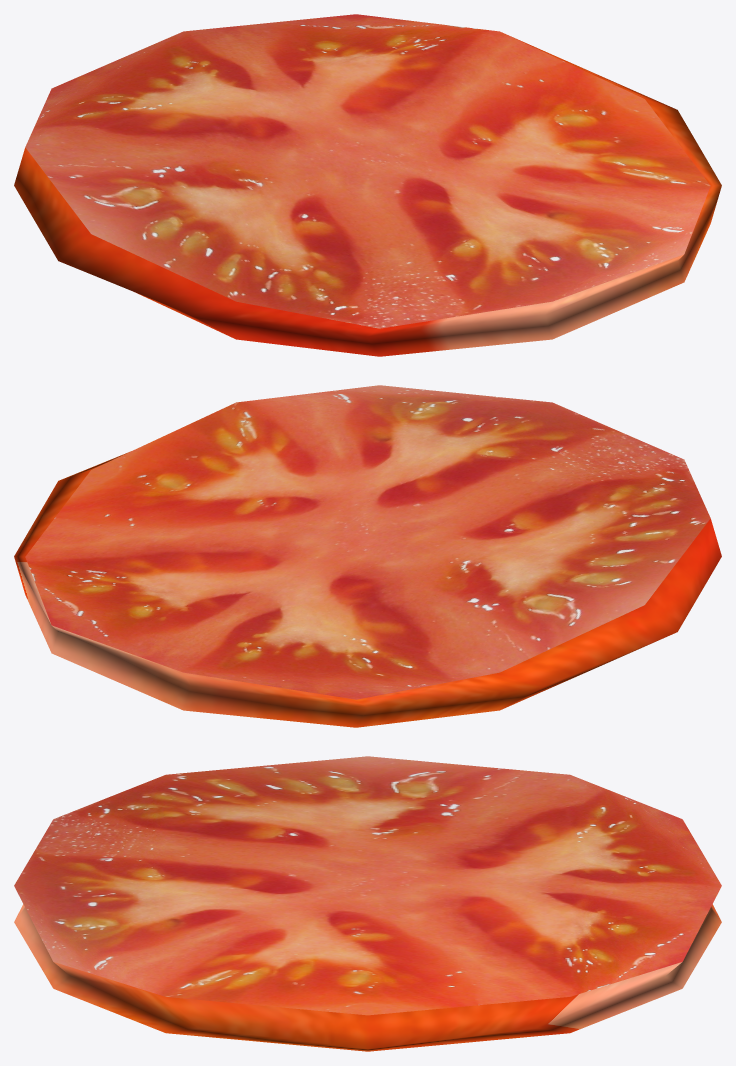
File: slicetomato.fbx
3 renders of one model, top to bottom at view 1: azimuth 30°, elevation 25°; view 2: azimuth 150°, elevation 25°; view 3: azimuth 270°, elevation 25°, orthographic. The views are drawn at different scales.
Visible parts, largest first — view 1: slicetomato; view 2: slicetomato; view 3: slicetomato.
Part boxes in pixels (x1=…): slicetomato: x1=14, y1=14, x2=721, y2=356; slicetomato: x1=14, y1=385, x2=721, y2=727; slicetomato: x1=14, y1=756, x2=721, y2=1051.
Bounding box in the file's own units: 14.45 × 1.13 × 14.92.
